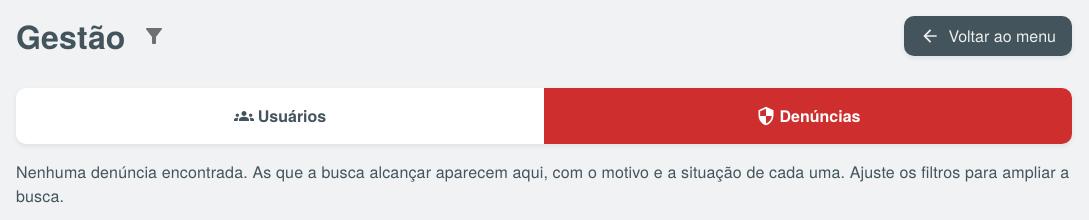
Test: Management › should come back to users from the other tab
The width and height of the screenshot is (1089, 220).
Click the tab "Usuários". click: (280, 116)
box: left=16, top=88, right=544, bottom=144
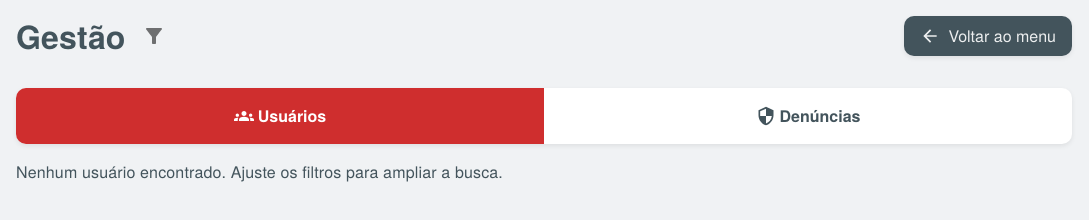
Expected: the text "Nenhum usuário encontrado. Ajuste os filtros para ampliar a busca." is shown, left=16, top=160, right=503, bottom=183
